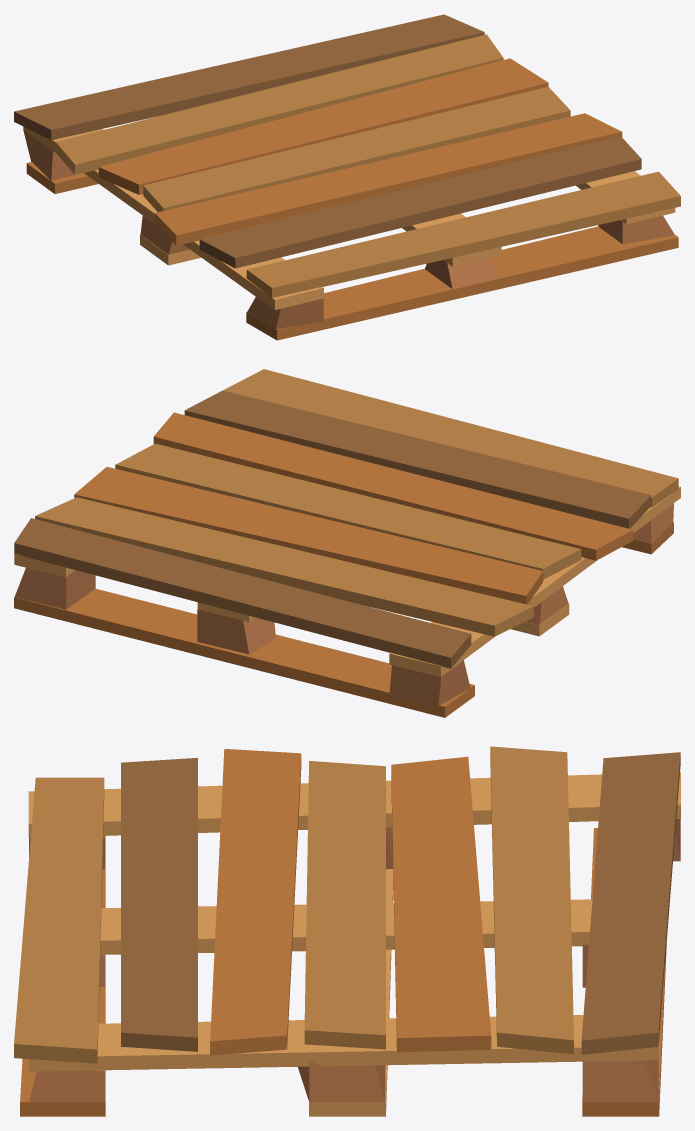
File: Palet.fbx
3 renders of one model, top to bottom at view 1: azimuth 30°, elevation 25°; view 2: azimuth 150°, elevation 25°; view 3: azimuth 270°, elevation 25°, orthographic. The views are drawn at different scales.
Visible parts, largest first — view 1: Cube.006; view 2: Cube.006; view 3: Cube.006.
Boxes of the visible parts, bbox=[...] form: Cube.006: bbox=[14, 14, 680, 340]; Cube.006: bbox=[14, 369, 680, 717]; Cube.006: bbox=[14, 746, 680, 1116].
Bounding box in the file's own units: 111 × 14.7 × 106.
